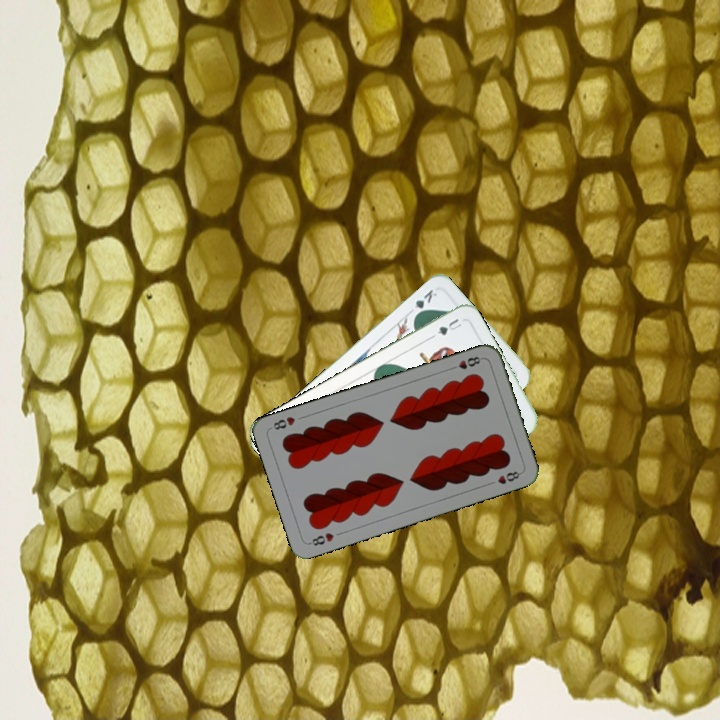GK: (410, 285, 440, 320)
GU: (433, 314, 464, 338)
H8: (446, 352, 485, 373), (305, 529, 337, 548)
